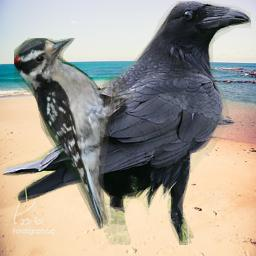Crow: (0, 1, 251, 245)
Woodpecker: (14, 38, 136, 229)
